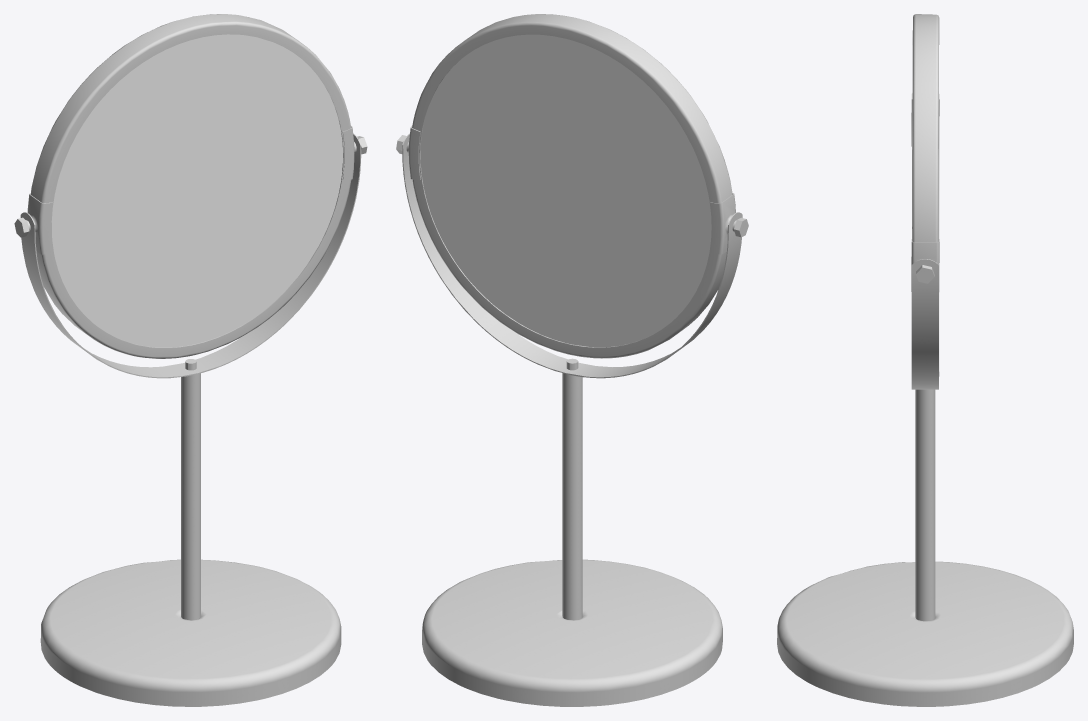
Rendered from trensum_lustro_24524485.glb.
3 views of the same model, side by side, from view 1: azimuth 30°, elevation 25°; view 2: azimuth 150°, elevation 25°; view 3: azimuth 270°, elevation 25° (orthographic).
Parts seen in each view (by area): view 1: trensum_lustro_24524485; view 2: trensum_lustro_24524485; view 3: trensum_lustro_24524485.
Boxes of the visible parts, bbox=[...] form: trensum_lustro_24524485: bbox=[14, 14, 367, 706]; trensum_lustro_24524485: bbox=[396, 14, 748, 706]; trensum_lustro_24524485: bbox=[777, 14, 1073, 706].
Size of the model in its own units: 0.186 by 0.3216 by 0.141.
1 material, 1 textured.
